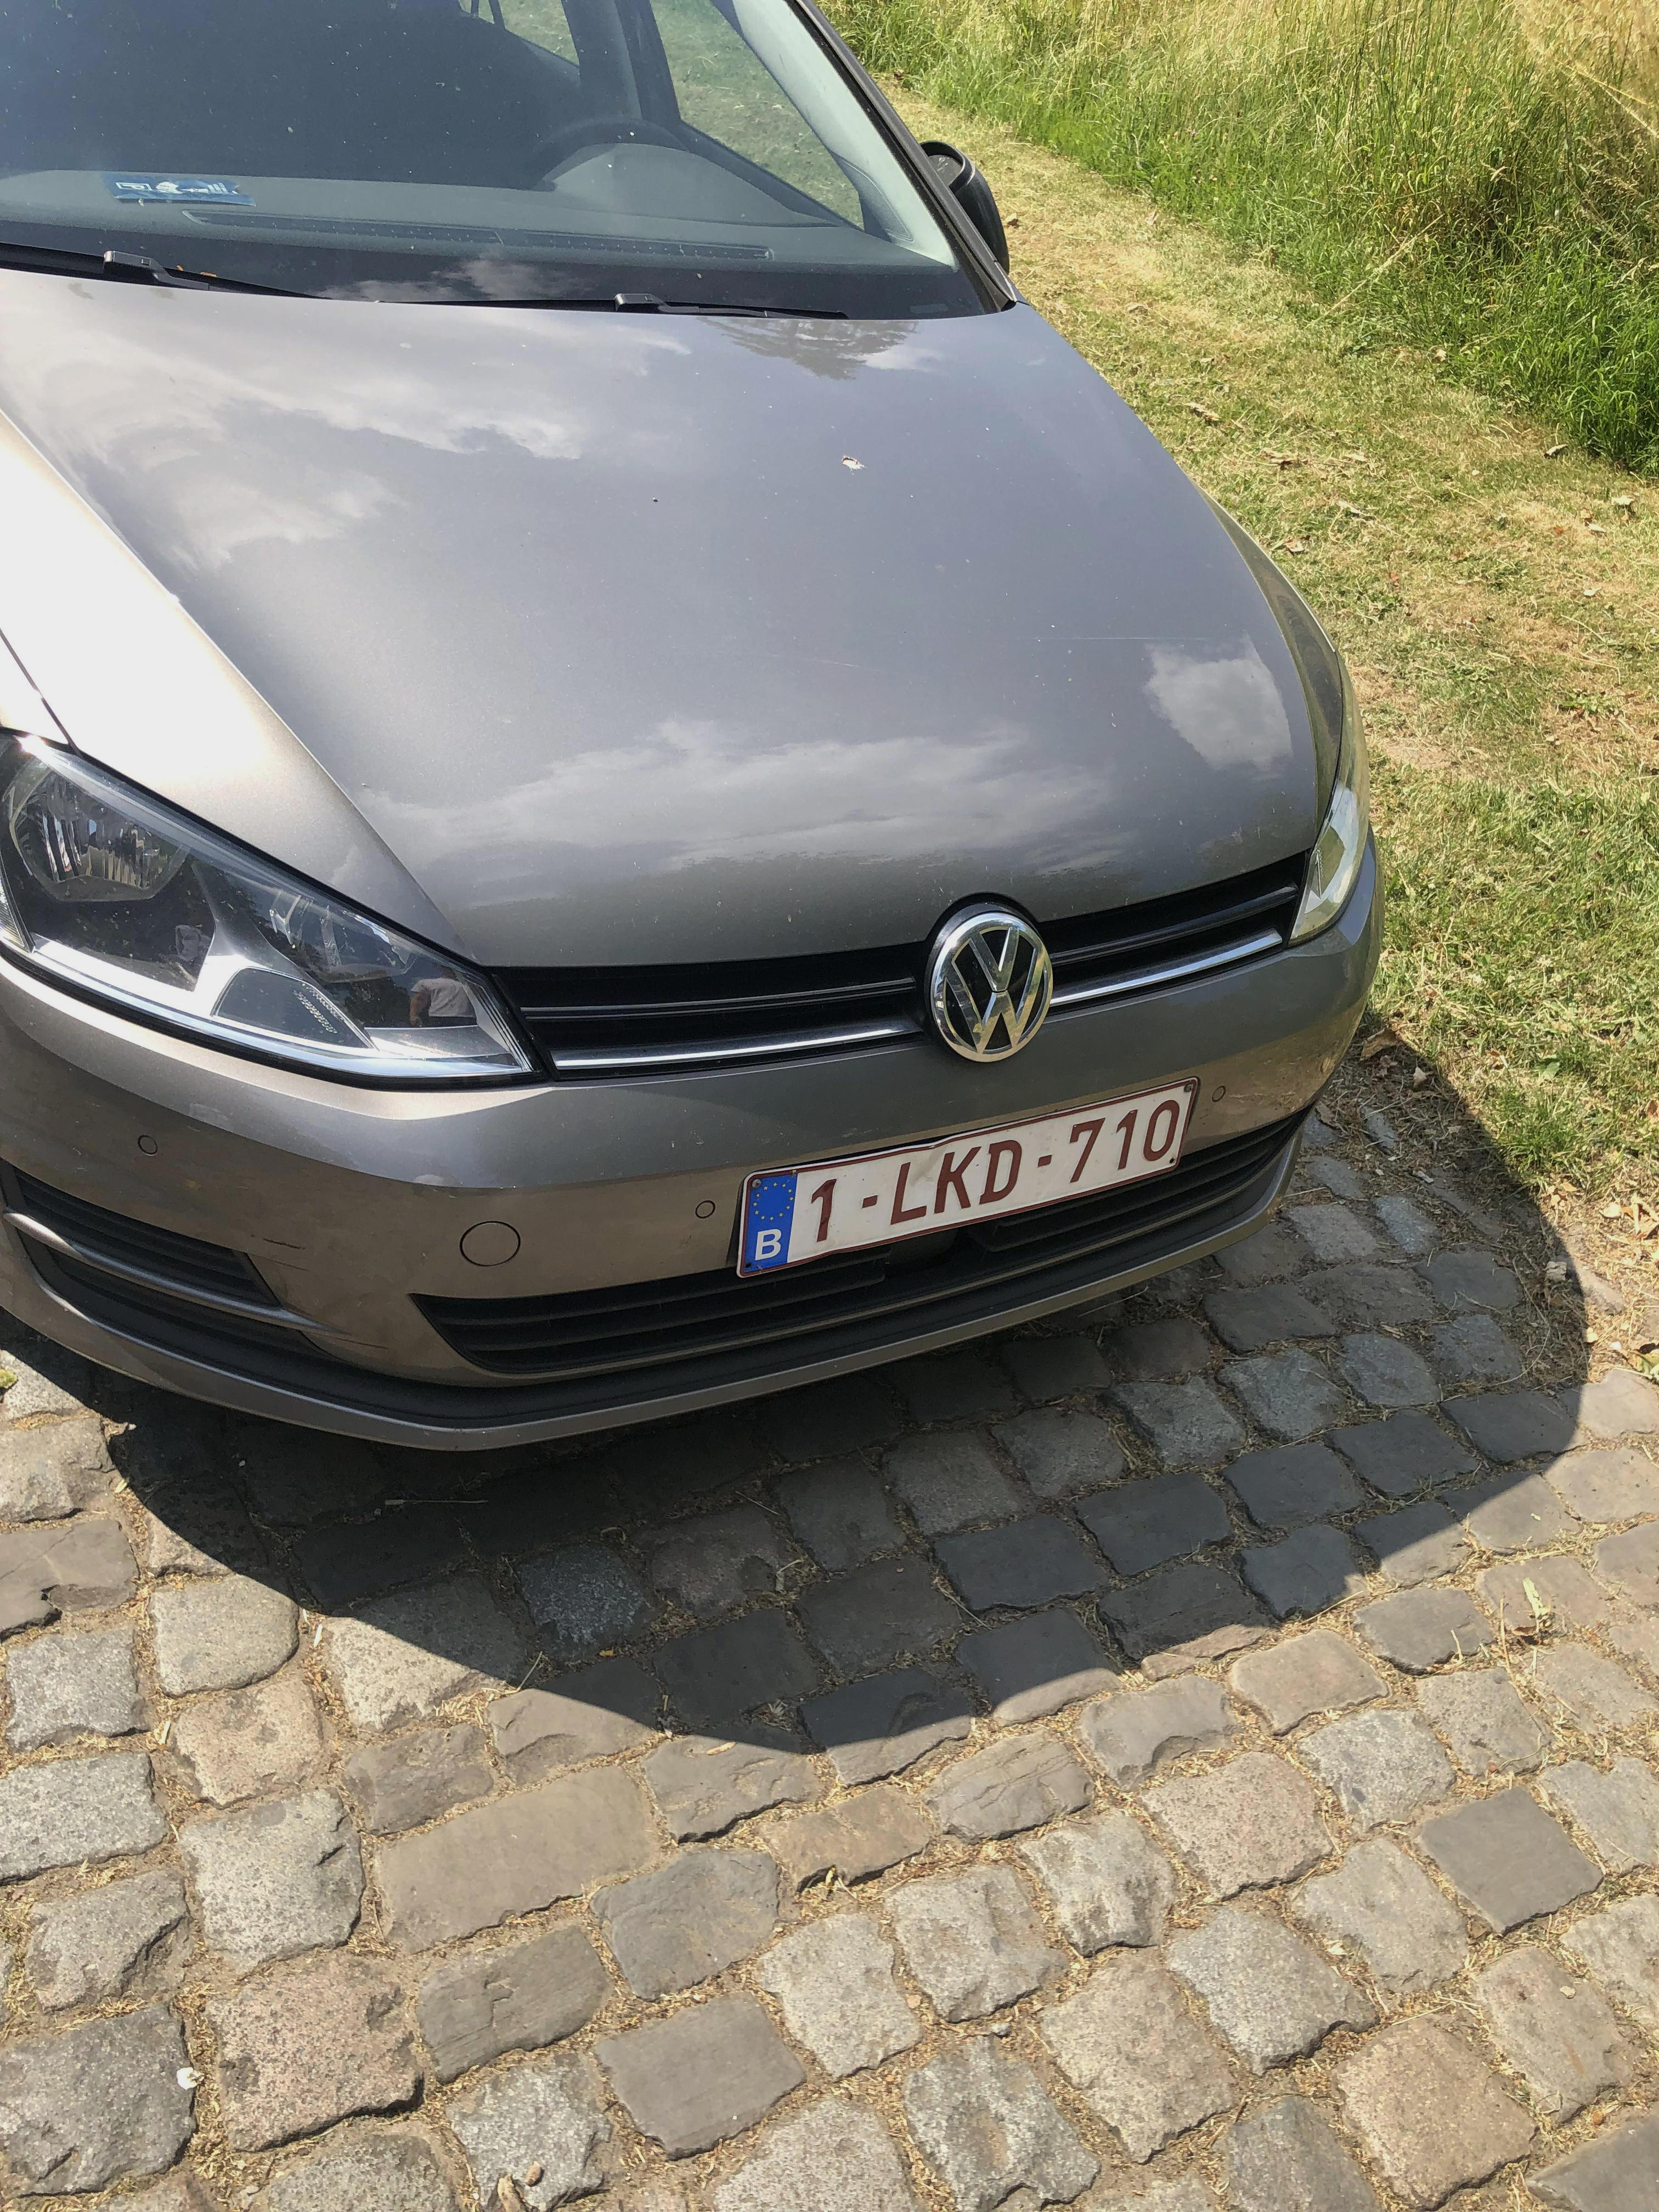plate: (727, 1061, 1211, 1288)
